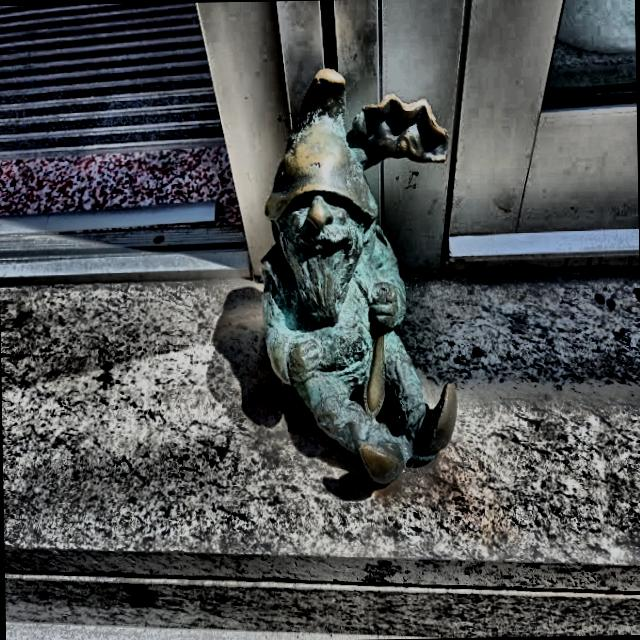Pieroznik: (259, 66, 456, 489)
